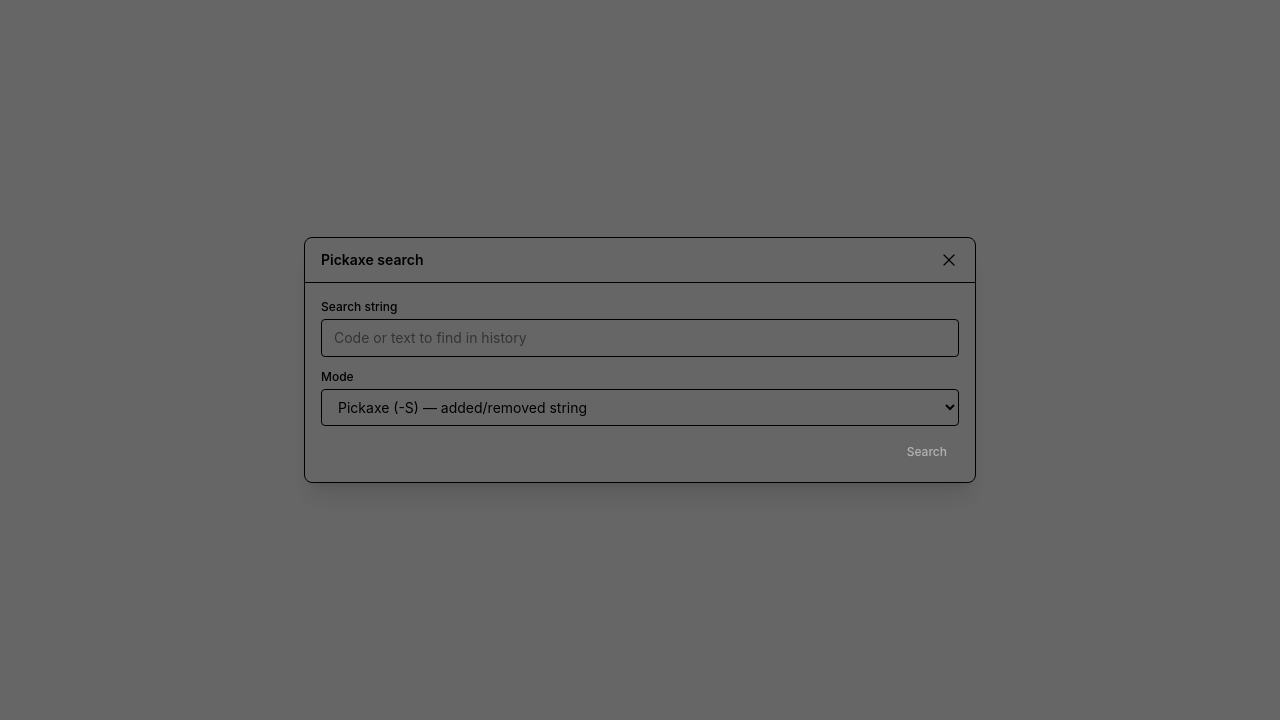
Scenario: PickaxeSearchModal › shows empty state when no commits match
In the field: [640, 338] box top-left (321, 319), bottom-right (959, 357), type "missing"
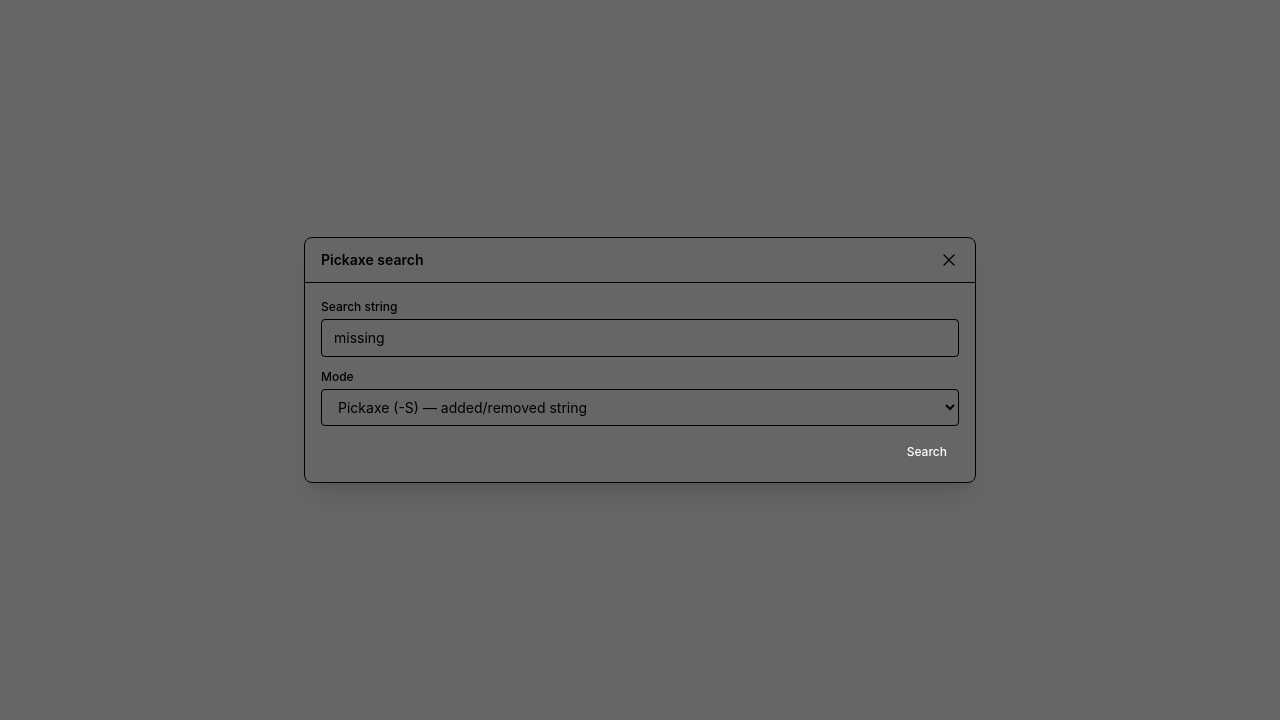
Click the button "Search": [927, 452] box top-left (895, 438), bottom-right (959, 466)
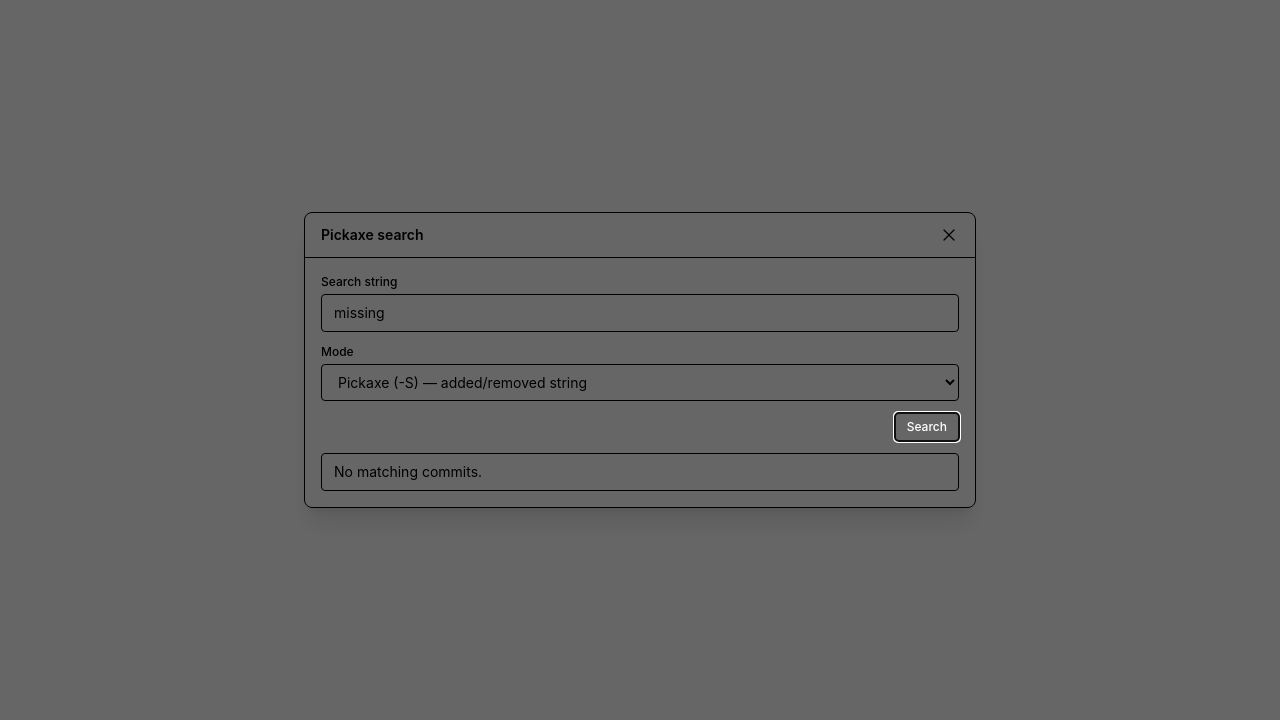
expect the text "No matching commits." is shown: met, box top-left (334, 463), bottom-right (482, 480)
